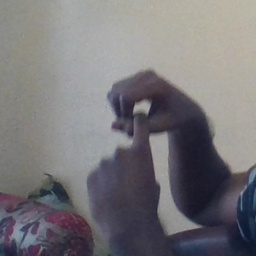Q: (82, 67, 187, 204)
